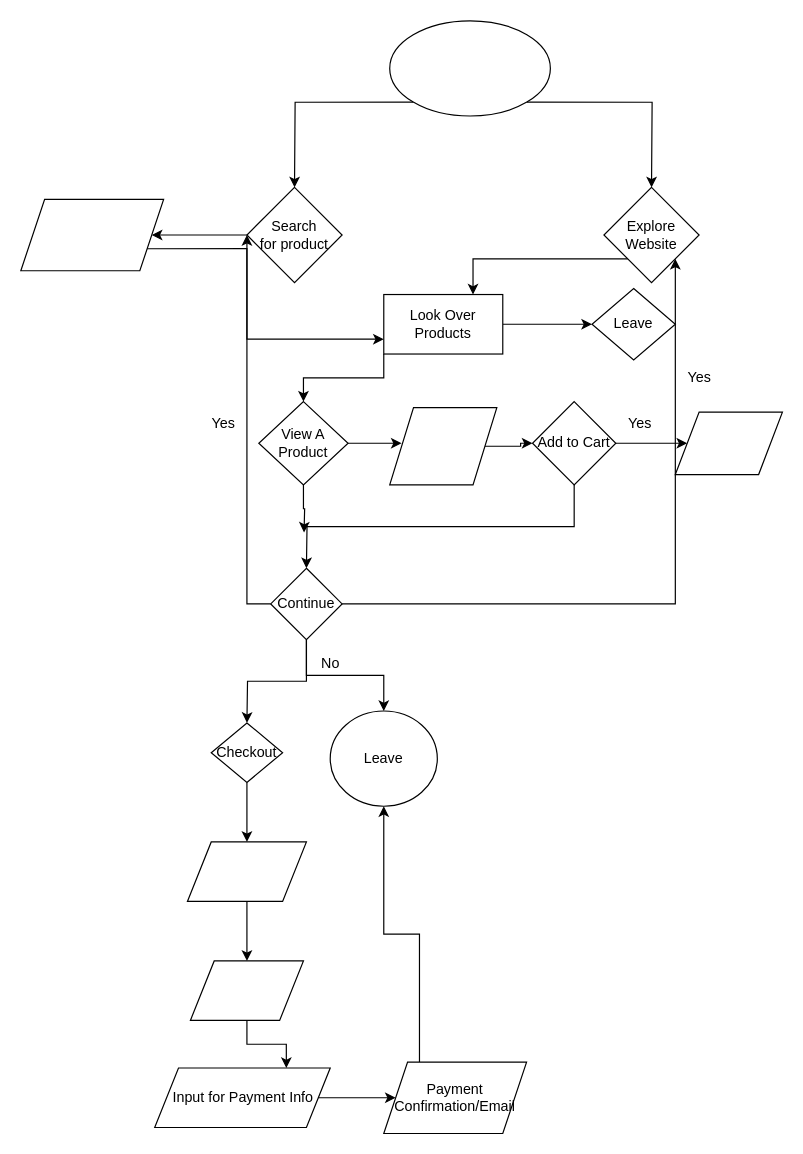
Some shapes in this 803 by 1154 pixel diagram are drawn without their labels. The shapes that lost their labels are listed below. From the top down, each one's box as (x1, y1, x2, y2) in pixels, then its label:
(389, 20, 550, 116): Start
(20, 198, 164, 271): User Inputs for Search
(389, 406, 497, 485): Product Webpage Opens
(674, 411, 782, 475): Receive Confirmation
(186, 841, 306, 901): View Cart
(189, 960, 303, 1020): View Payment
